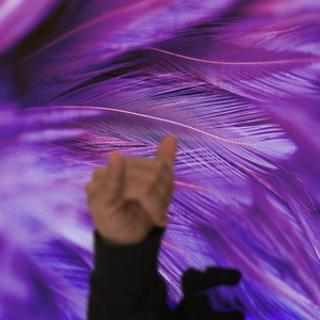HAVE: (72, 125, 187, 247)
